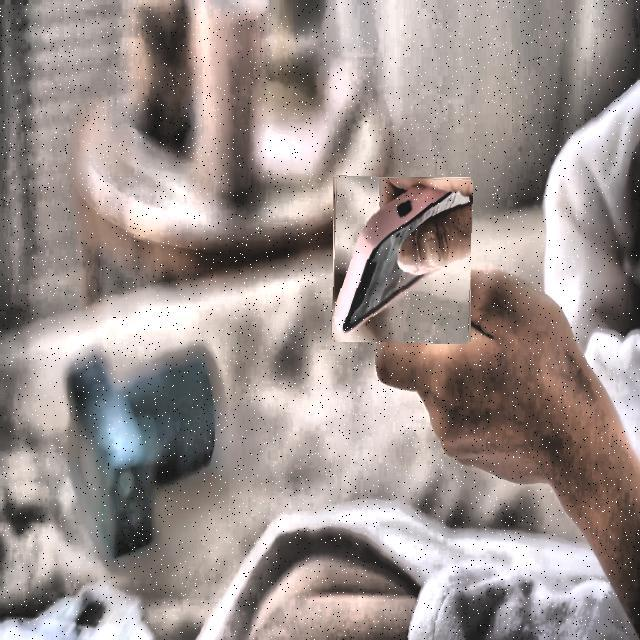Phone: (332, 176, 473, 343)
